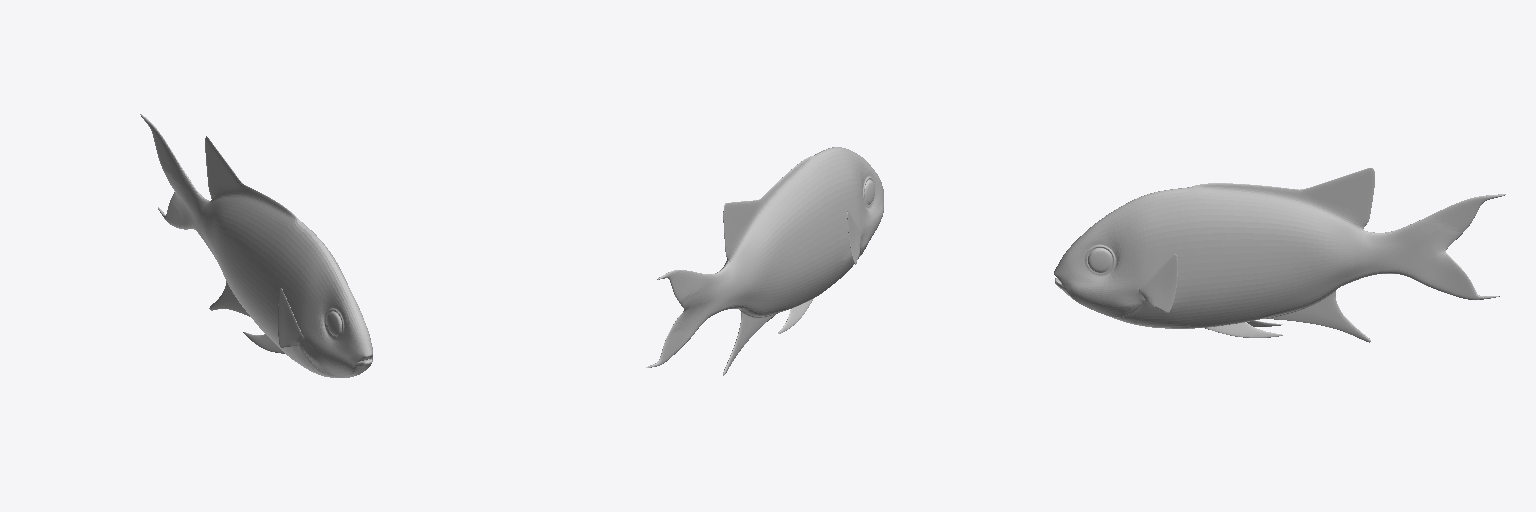
Rendered from pez.obj.
3 renders of one model, left to right at view 1: azimuth 30°, elevation 25°; view 2: azimuth 150°, elevation 25°; view 3: azimuth 270°, elevation 25°, orthographic.
Visible parts, largest first — view 1: 13007_Blue-Green_Reef_Chromis_v2_l3; view 2: 13007_Blue-Green_Reef_Chromis_v2_l3; view 3: 13007_Blue-Green_Reef_Chromis_v2_l3.
Part boxes in pixels (x1,y1,x2,y2): 13007_Blue-Green_Reef_Chromis_v2_l3: (140, 114, 372, 377); 13007_Blue-Green_Reef_Chromis_v2_l3: (646, 147, 883, 375); 13007_Blue-Green_Reef_Chromis_v2_l3: (1054, 168, 1505, 342).
Size of the model in its own units: 1.25 by 3.26 by 7.69.